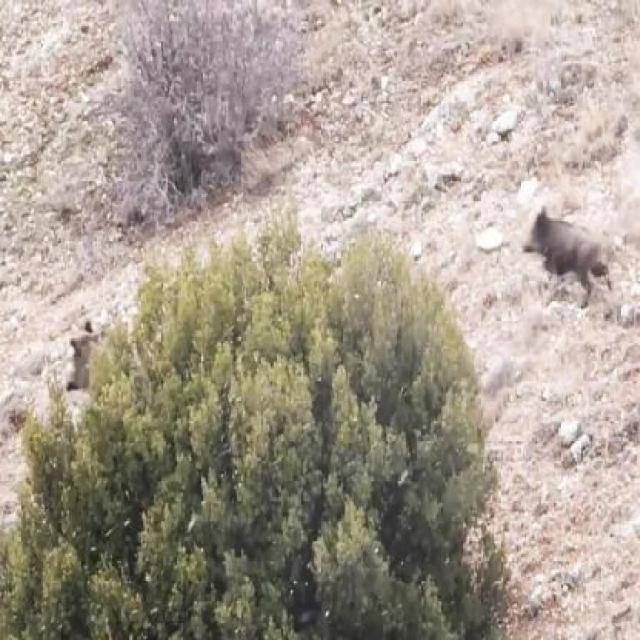pig: (502, 177, 622, 325)
